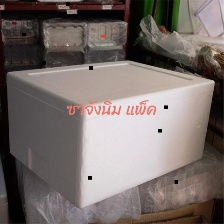foam_box: (2, 57, 217, 210)
